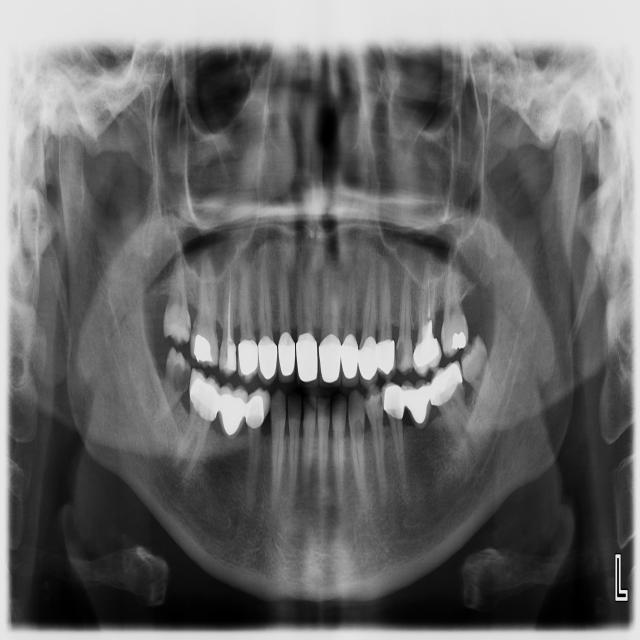mandibula: (58, 115, 583, 605)
